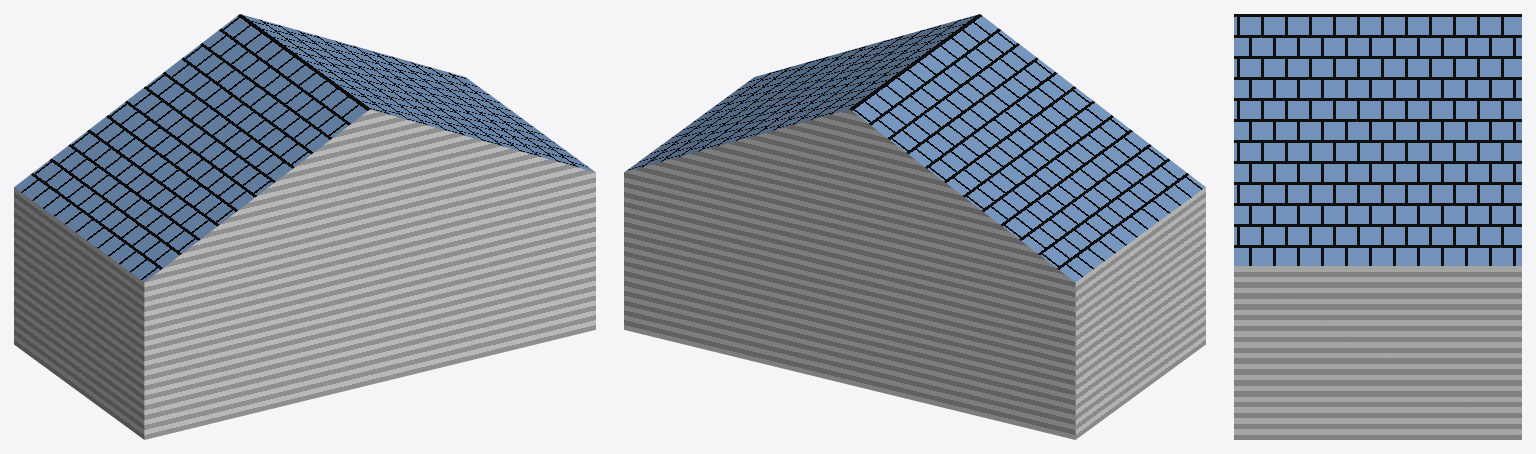
Rendered from House.fbx.
The picture shows the model from 3 angles, left to right: view 1: azimuth 30°, elevation 25°; view 2: azimuth 150°, elevation 25°; view 3: azimuth 270°, elevation 25°; orthographic projection. The views are drawn at different scales.
Parts seen in each view (by area): view 1: Cube; view 2: Cube; view 3: Cube.
Part boxes in pixels (x1,y1,x2,y2): Cube: (14,14,595,439); Cube: (624,14,1205,439); Cube: (1234,14,1521,439).
Size of the model in its own units: 1200 by 600 by 700.
